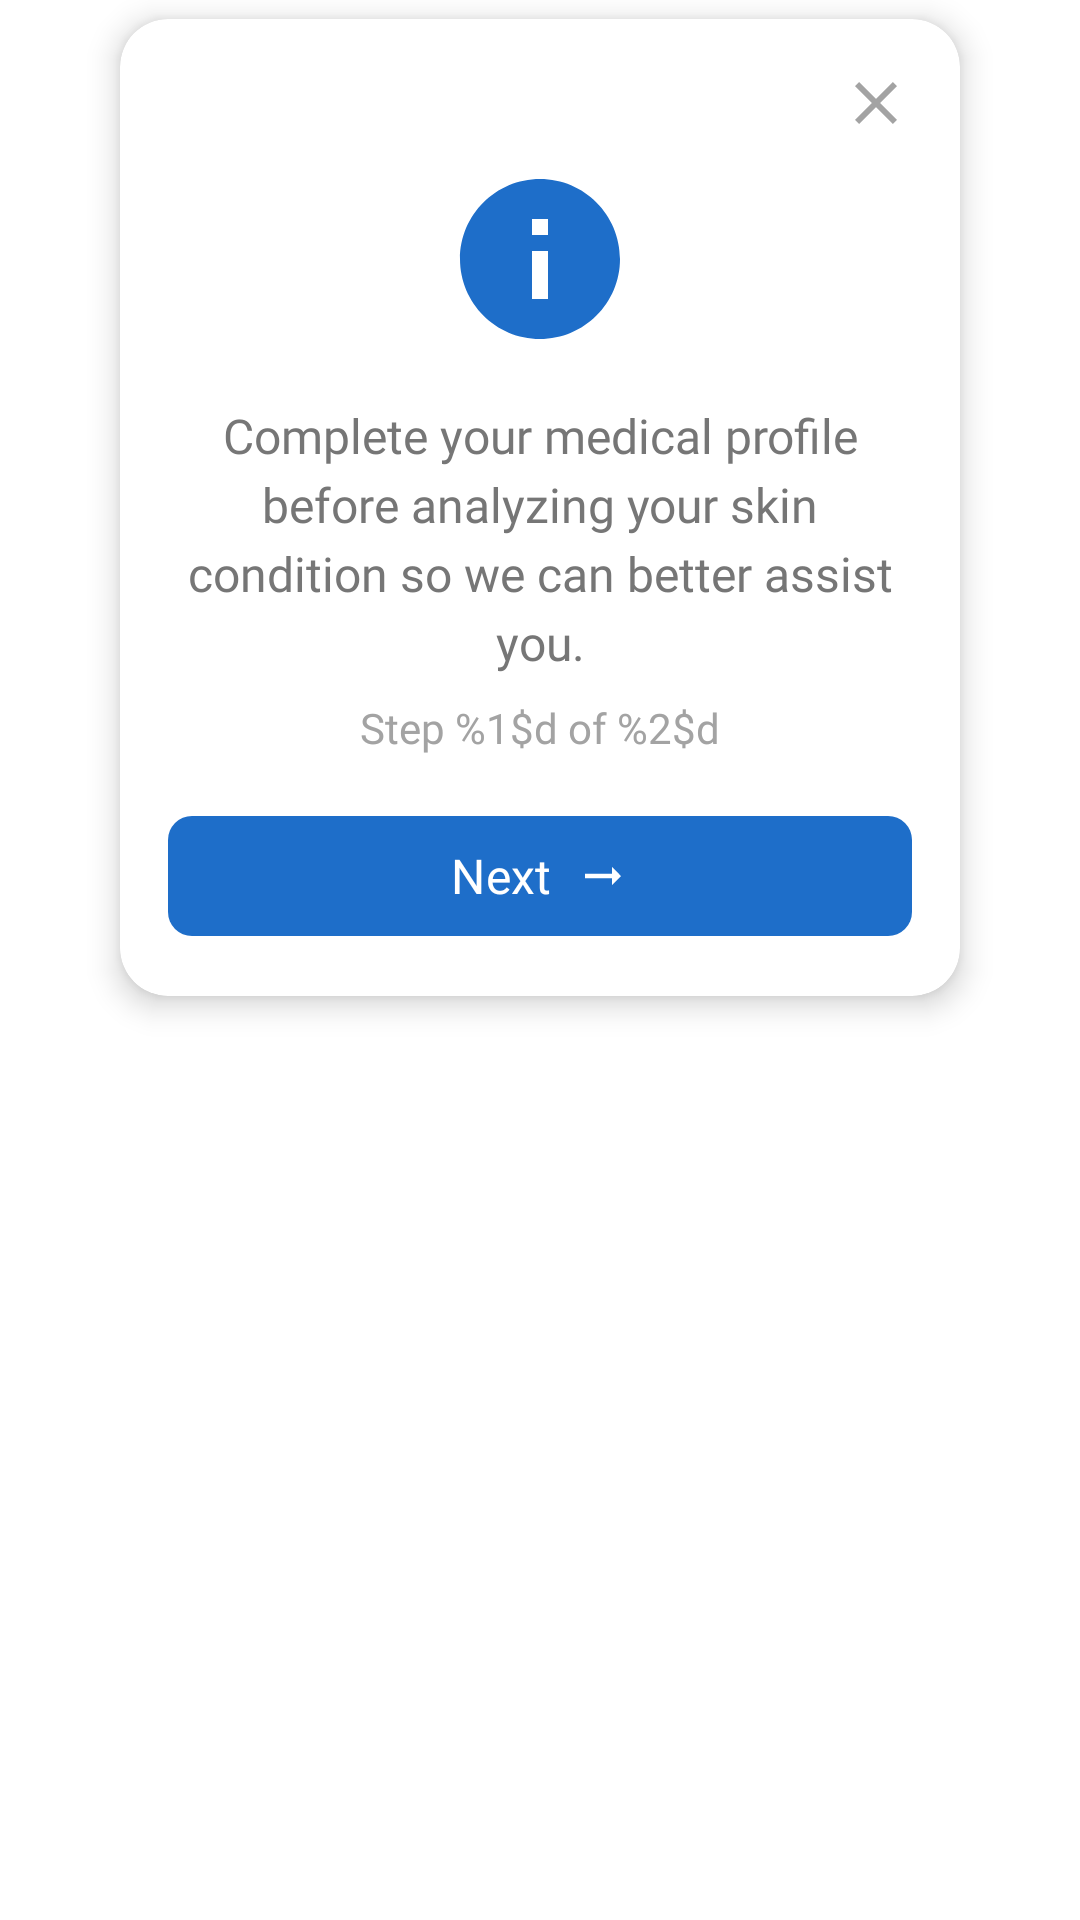

Icons on this 1080×1920 Android screen, each with its box as (x1, y1, x2, y2):
Close: (855, 82, 897, 124)
